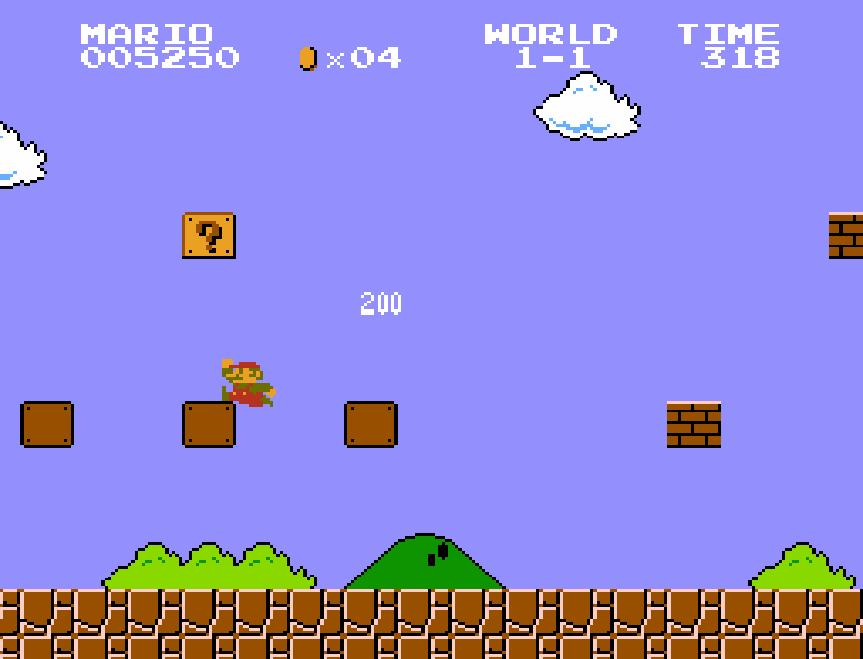little_mario: (220, 358, 278, 408)
